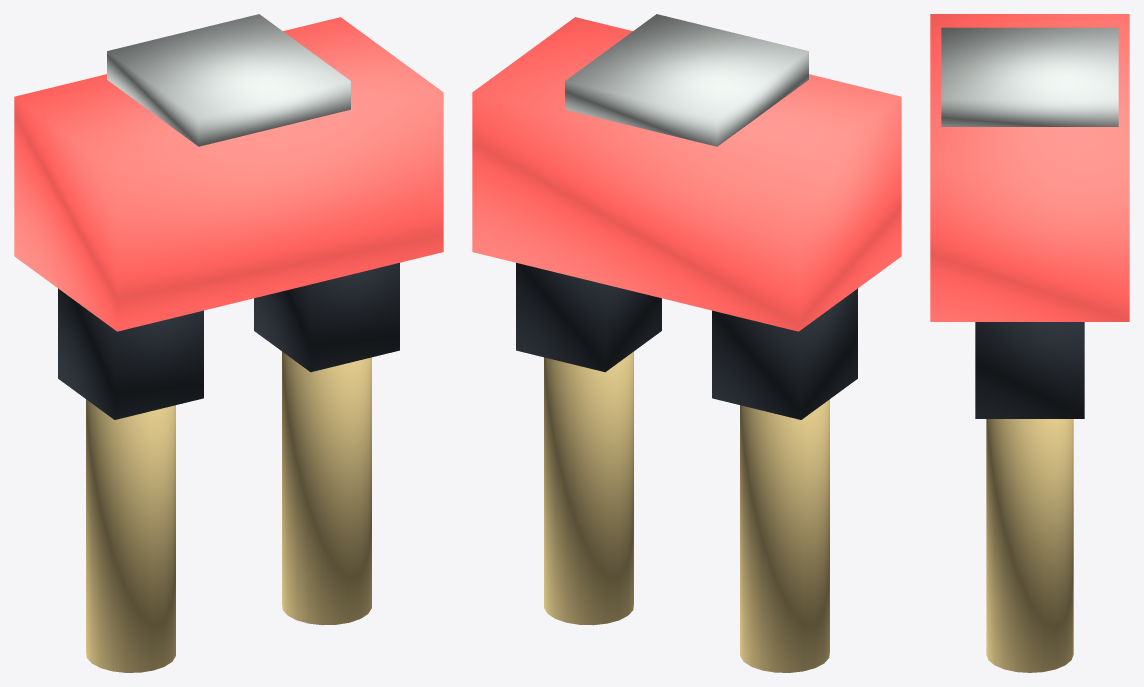
File: 15_L94_W035DetachableFeedbackJumper.fbx
3 renders of one model, left to right at view 1: azimuth 30°, elevation 25°; view 2: azimuth 150°, elevation 25°; view 3: azimuth 270°, elevation 25°, orthographic. The views are drawn at different scales.
Parts seen in each view (by area): view 1: L94_W035DetachableFeedbackJum_Part_0002, L94_W035DetachableFeedbackJum_Part_0000, L94_W035DetachableFeedbackJum_Part_0001, L94_W035DetachableFeedbackJum_Part_0003; view 2: L94_W035DetachableFeedbackJum_Part_0002, L94_W035DetachableFeedbackJum_Part_0000, L94_W035DetachableFeedbackJum_Part_0001, L94_W035DetachableFeedbackJum_Part_0003; view 3: L94_W035DetachableFeedbackJum_Part_0002, L94_W035DetachableFeedbackJum_Part_0000, L94_W035DetachableFeedbackJum_Part_0003, L94_W035DetachableFeedbackJum_Part_0001.
Part boxes in pixels (left/top/right/bottom): L94_W035DetachableFeedbackJum_Part_0002: left=14, top=17, right=443, bottom=331; L94_W035DetachableFeedbackJum_Part_0000: left=86, top=351, right=371, bottom=672; L94_W035DetachableFeedbackJum_Part_0001: left=58, top=263, right=399, bottom=419; L94_W035DetachableFeedbackJum_Part_0003: left=107, top=14, right=350, bottom=146; L94_W035DetachableFeedbackJum_Part_0002: left=472, top=17, right=901, bottom=331; L94_W035DetachableFeedbackJum_Part_0000: left=544, top=351, right=829, bottom=672; L94_W035DetachableFeedbackJum_Part_0001: left=516, top=263, right=857, bottom=419; L94_W035DetachableFeedbackJum_Part_0003: left=565, top=14, right=808, bottom=146; L94_W035DetachableFeedbackJum_Part_0002: left=930, top=14, right=1129, bottom=321; L94_W035DetachableFeedbackJum_Part_0000: left=986, top=419, right=1073, bottom=672; L94_W035DetachableFeedbackJum_Part_0003: left=941, top=27, right=1118, bottom=126; L94_W035DetachableFeedbackJum_Part_0001: left=975, top=322, right=1084, bottom=418.
Size of the model in its own units: 0.15 by 0.2475 by 0.082.
